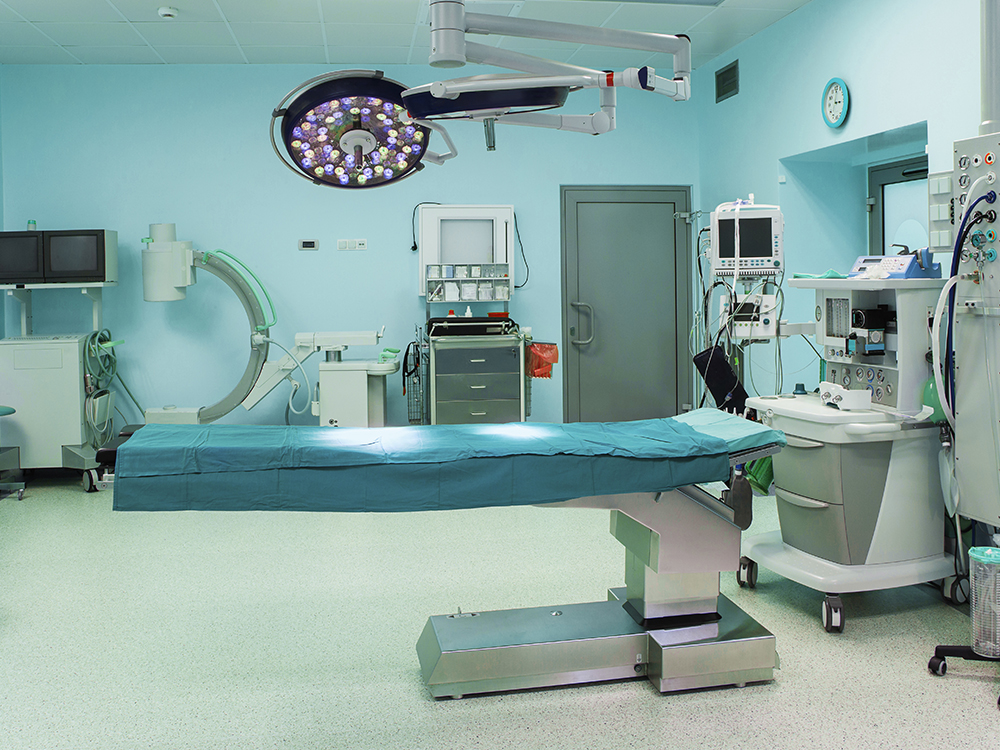bedside_monitor: (706, 202, 788, 274), (49, 227, 120, 283), (1, 228, 40, 287)
door_handle: (570, 301, 595, 344)
handle: (775, 424, 834, 459), (774, 485, 828, 510), (470, 411, 487, 417), (470, 358, 487, 363), (469, 386, 489, 389)
medical_drawer: (763, 416, 913, 567), (408, 322, 533, 429)
operating_bed: (110, 408, 788, 703)
surgical_light: (271, 67, 430, 195), (398, 72, 578, 121)
ventilator: (750, 274, 951, 570)
waste_bin: (968, 547, 1000, 660)
